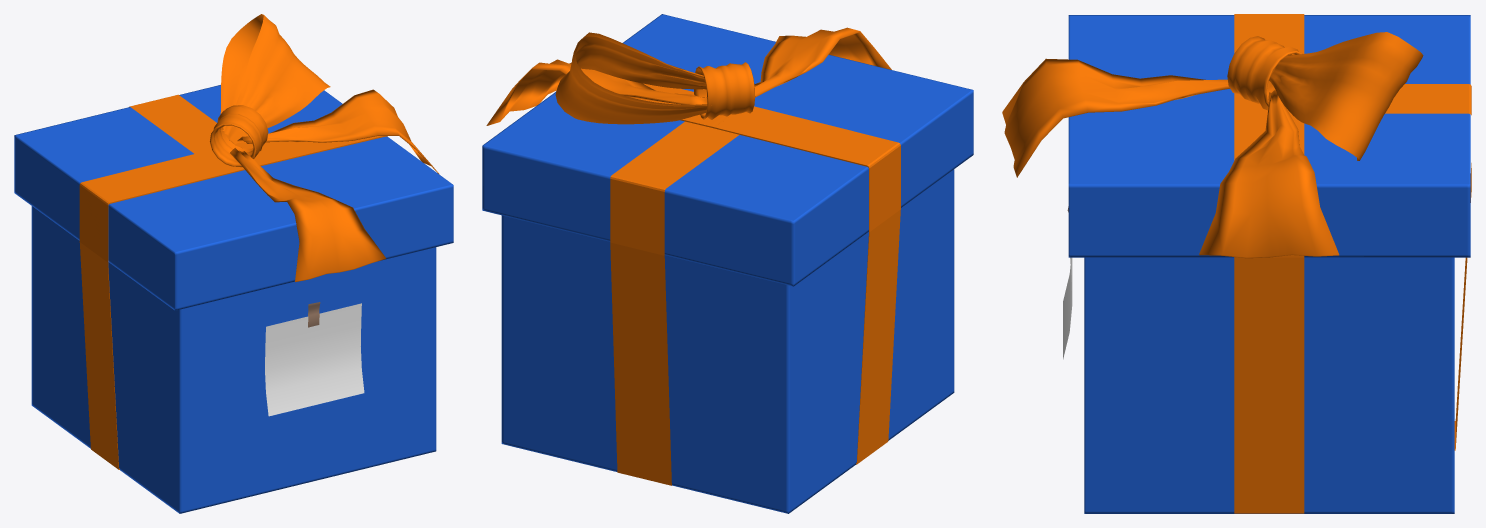
File: Gift_with_name_tag.glb
3 views of the same model, side by side, from view 1: azimuth 30°, elevation 25°; view 2: azimuth 150°, elevation 25°; view 3: azimuth 270°, elevation 25° (orthographic). The views are drawn at different scales.
Parts seen in each view (by area): view 1: Cube.001, Plane.005, Plane.012, Plane.002, Plane.010, Plane.003, Cylinder; view 2: Cube.001, Plane.003, Plane.005, Plane.010, Plane.012, Cylinder; view 3: Cube.001, Plane.012, Plane.005, Plane.010, Plane.003, Cylinder, Plane.002.
Part boxes in pixels (left/top/right/bottom): Cube.001: left=14, top=85, right=453, bottom=513; Plane.005: left=79, top=136, right=387, bottom=469; Plane.012: left=230, top=89, right=439, bottom=281; Plane.002: left=265, top=303, right=364, bottom=416; Plane.010: left=220, top=14, right=330, bottom=143; Plane.003: left=129, top=94, right=241, bottom=153; Cylinder: left=209, top=105, right=268, bottom=167; Cube.001: left=482, top=14, right=973, bottom=513; Plane.003: left=610, top=121, right=739, bottom=485; Plane.005: left=634, top=83, right=900, bottom=464; Plane.010: left=555, top=32, right=712, bottom=124; Plane.012: left=486, top=27, right=891, bottom=125; Cylinder: left=694, top=62, right=755, bottom=119; Cube.001: left=1068, top=15, right=1470, bottom=513; Plane.012: left=1002, top=58, right=1339, bottom=258; Plane.005: left=1234, top=14, right=1304, bottom=513; Plane.010: left=1269, top=32, right=1423, bottom=160; Plane.003: left=1385, top=84, right=1471, bottom=450; Cylinder: left=1227, top=36, right=1302, bottom=110; Plane.002: left=1063, top=257, right=1072, bottom=359.
Bounding box in the file's own units: 2.56 × 2.69 × 2.54.
